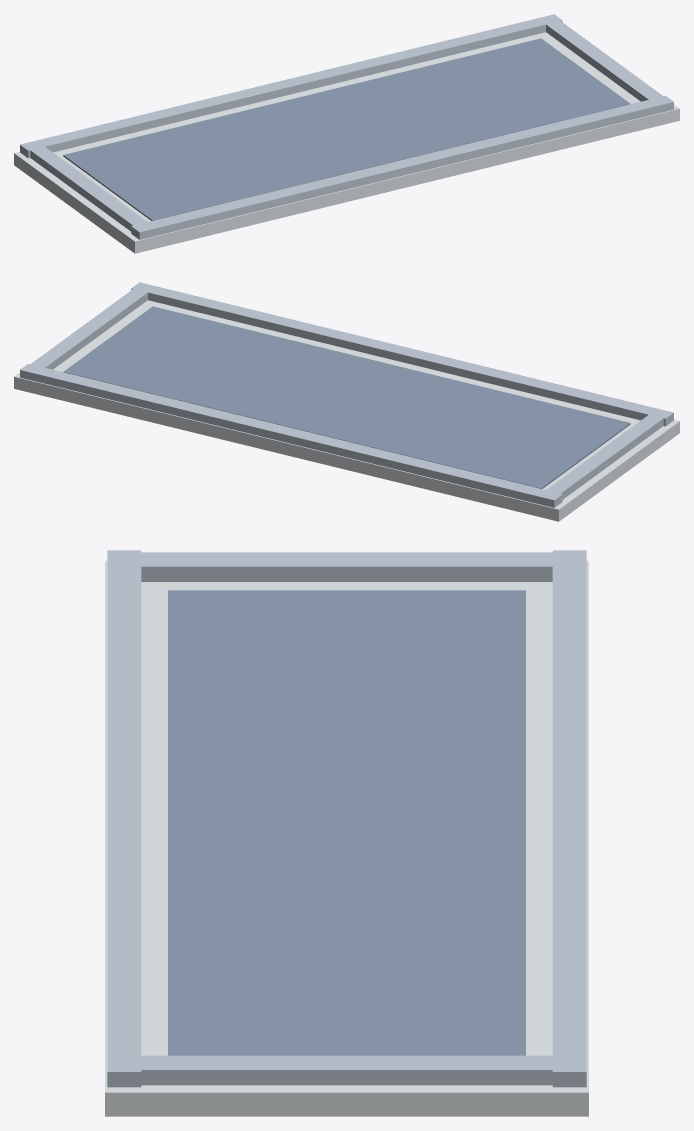
File: bandeja.glb
3 renders of one model, top to bottom at view 1: azimuth 30°, elevation 25°; view 2: azimuth 150°, elevation 25°; view 3: azimuth 270°, elevation 25°, orthographic. The views are drawn at different scales.
Parts seen in each view (by area): view 1: bandeja; view 2: bandeja; view 3: bandeja.
Part boxes in pixels (x1,y1,x2,y2): bandeja: [14, 14, 679, 253]; bandeja: [14, 282, 679, 521]; bandeja: [105, 550, 588, 1116].
Size of the model in its own units: 2.6 by 0.09 by 1.
